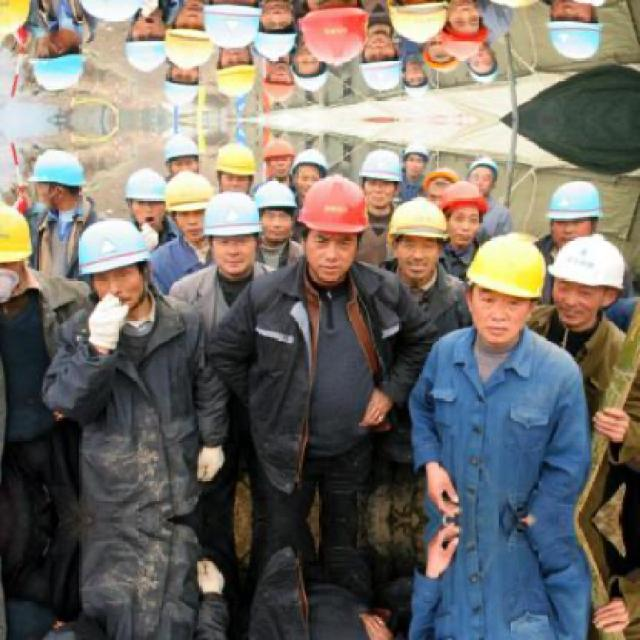con casco: (462, 224, 560, 316), (310, 158, 390, 244), (73, 226, 157, 307), (546, 238, 626, 308), (155, 158, 236, 218), (537, 174, 603, 242), (206, 182, 266, 248), (385, 195, 443, 257), (39, 135, 90, 196), (124, 166, 182, 218)
